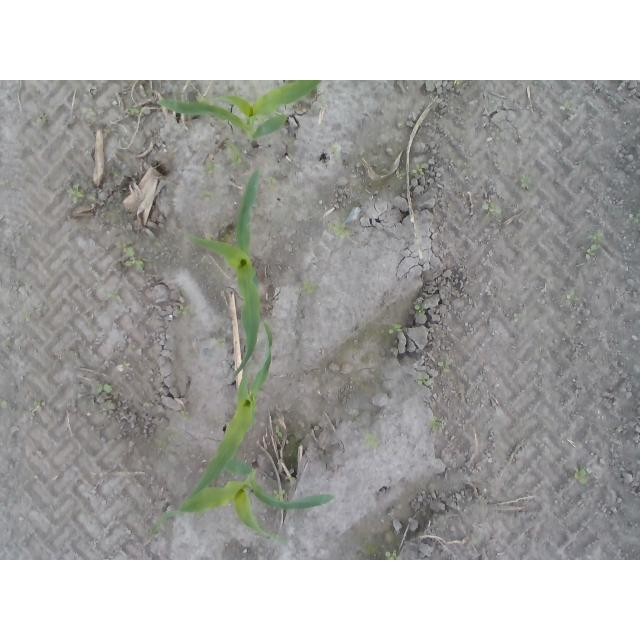Maize: (186, 167, 263, 381), (160, 452, 335, 545), (187, 320, 273, 499), (156, 82, 320, 143)
Weeds: (123, 246, 145, 272), (66, 182, 87, 206), (228, 144, 245, 165), (332, 222, 353, 238), (591, 230, 606, 252), (481, 201, 503, 215), (94, 381, 114, 396), (576, 467, 588, 486), (387, 323, 404, 336), (412, 162, 429, 174), (107, 289, 122, 302), (519, 175, 530, 192), (177, 303, 191, 316), (626, 212, 640, 224), (271, 488, 285, 500), (438, 360, 450, 373), (367, 433, 378, 447), (303, 281, 317, 292), (128, 104, 145, 113), (385, 550, 399, 560), (417, 374, 428, 386), (414, 304, 426, 315), (207, 162, 215, 173), (276, 432, 284, 440)
